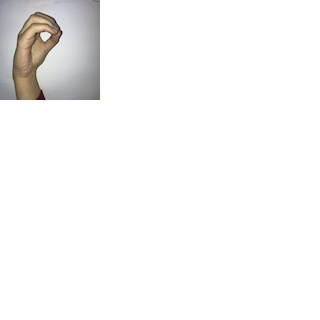rock: (6, 8, 63, 81)
